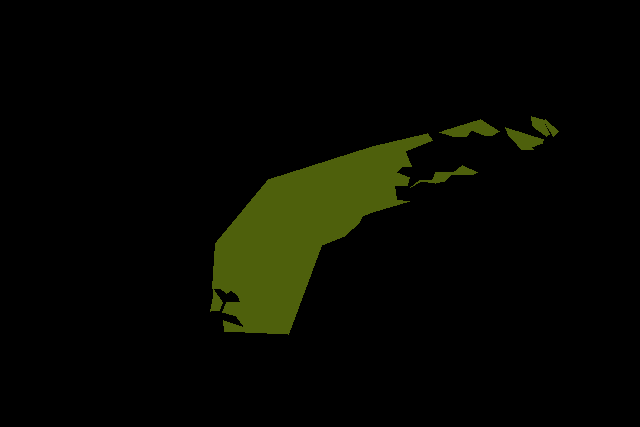Train: (210, 116, 558, 335)
